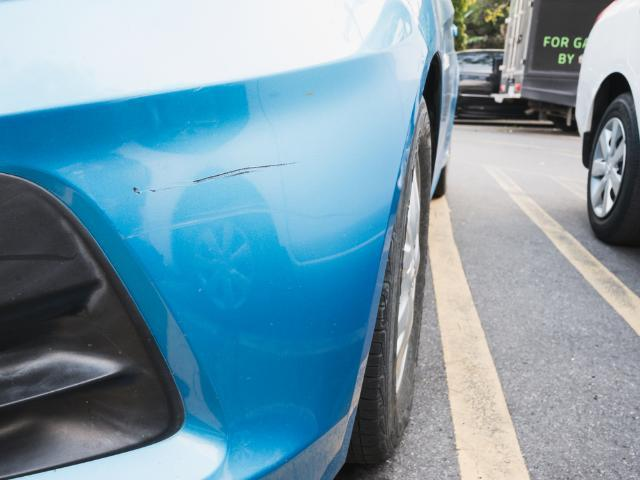scratch: (137, 156, 303, 195)
